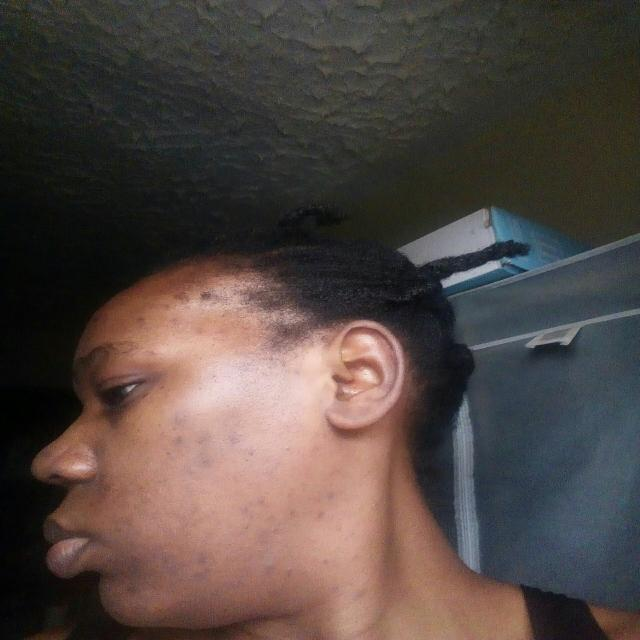Acne: (190, 554, 219, 570), (221, 577, 251, 592), (168, 434, 192, 452), (180, 466, 201, 482), (305, 444, 325, 460), (253, 493, 273, 508), (192, 570, 211, 585), (160, 558, 180, 572), (232, 502, 253, 515), (194, 454, 214, 467), (191, 430, 212, 442), (226, 436, 244, 450), (233, 522, 254, 534), (243, 448, 261, 462), (122, 584, 143, 596), (286, 504, 301, 520), (260, 559, 277, 573), (323, 488, 339, 502), (286, 564, 302, 578), (175, 411, 195, 421), (318, 557, 336, 568), (261, 512, 278, 522), (156, 545, 172, 555), (314, 513, 328, 521)
Eyebags: (100, 406, 140, 426)
